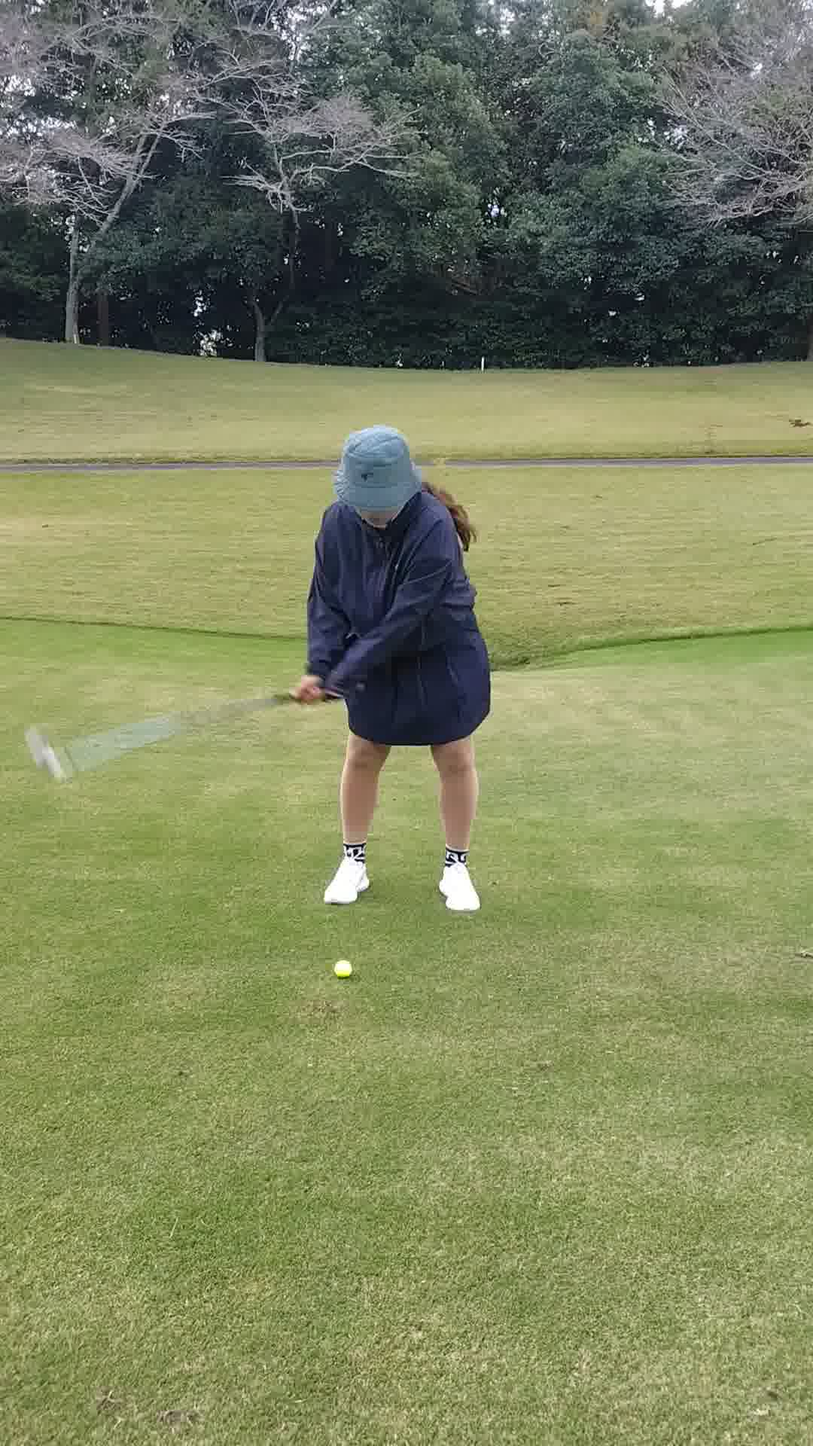clubhead: (0, 724, 174, 865)
